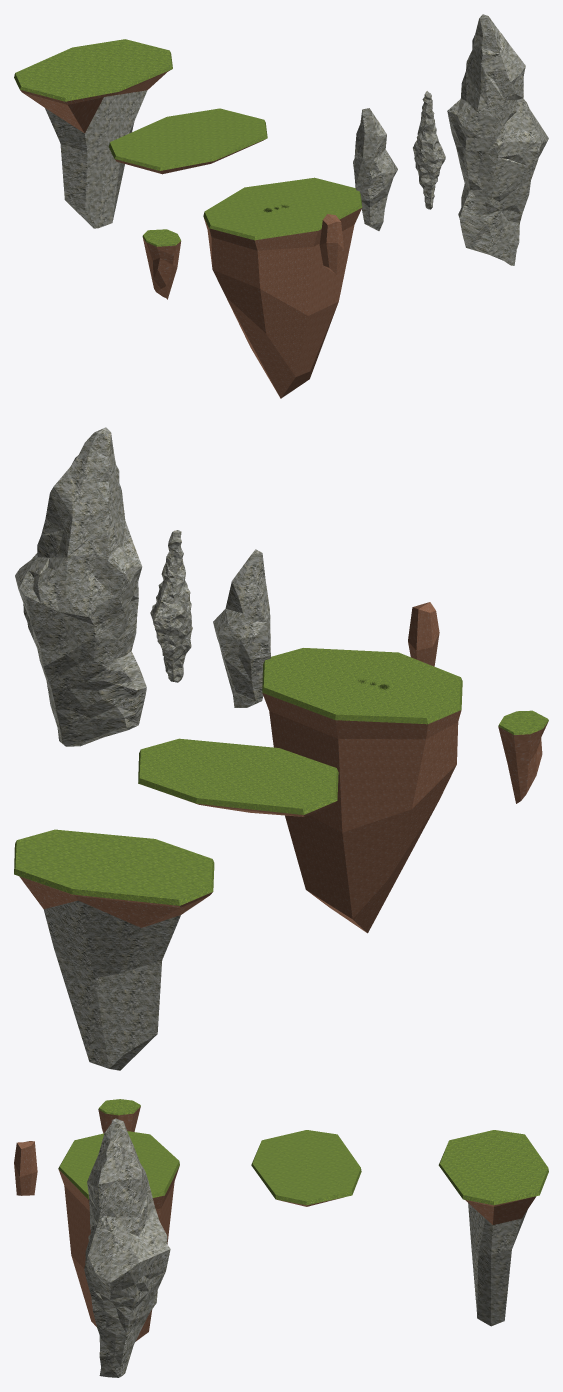
The model's file is peaceful_island_blocks.glb.
3 renders of one model, top to bottom at view 1: azimuth 30°, elevation 25°; view 2: azimuth 150°, elevation 25°; view 3: azimuth 270°, elevation 25°, orthographic. The views are drawn at different scales.
Visible parts, largest first — view 1: base_3-col, spire_3-col, base_2-col, base_1-col, spire_1-col, spire_2-col, base_4-col, clump_1-col; view 2: base_3-col, base_2-col, spire_3-col, base_1-col, spire_1-col, spire_2-col, base_4-col, clump_1-col; view 3: spire_3-col, base_2-col, base_1-col, base_3-col, clump_1-col, base_4-col.
Boxes of the visible parts, <box> form: base_3-col: <box>203,177,362,398</box>; spire_3-col: <box>447,14,548,265</box>; base_2-col: <box>14,39,172,228</box>; base_1-col: <box>108,108,267,174</box>; spire_1-col: <box>353,108,397,230</box>; spire_2-col: <box>413,91,445,209</box>; base_4-col: <box>142,229,181,299</box>; clump_1-col: <box>319,214,343,274</box>; base_3-col: <box>262,648,462,933</box>; base_2-col: <box>14,829,214,1070</box>; spire_3-col: <box>15,427,146,746</box>; base_1-col: <box>138,738,338,816</box>; spire_1-col: <box>213,549,270,707</box>; spire_2-col: <box>150,530,192,682</box>; base_4-col: <box>498,710,548,803</box>; clump_1-col: <box>408,602,439,666</box>; spire_3-col: <box>84,1118,170,1377</box>; base_2-col: <box>438,1130,548,1326</box>; base_1-col: <box>251,1130,361,1206</box>; base_3-col: <box>58,1131,179,1341</box>; clump_1-col: <box>14,1141,37,1195</box>; base_4-col: <box>98,1099,140,1133</box>.
Bounding box in the file's own units: 97.15 × 77.86 × 114.
Materials: 4 (4 with a texture image).
